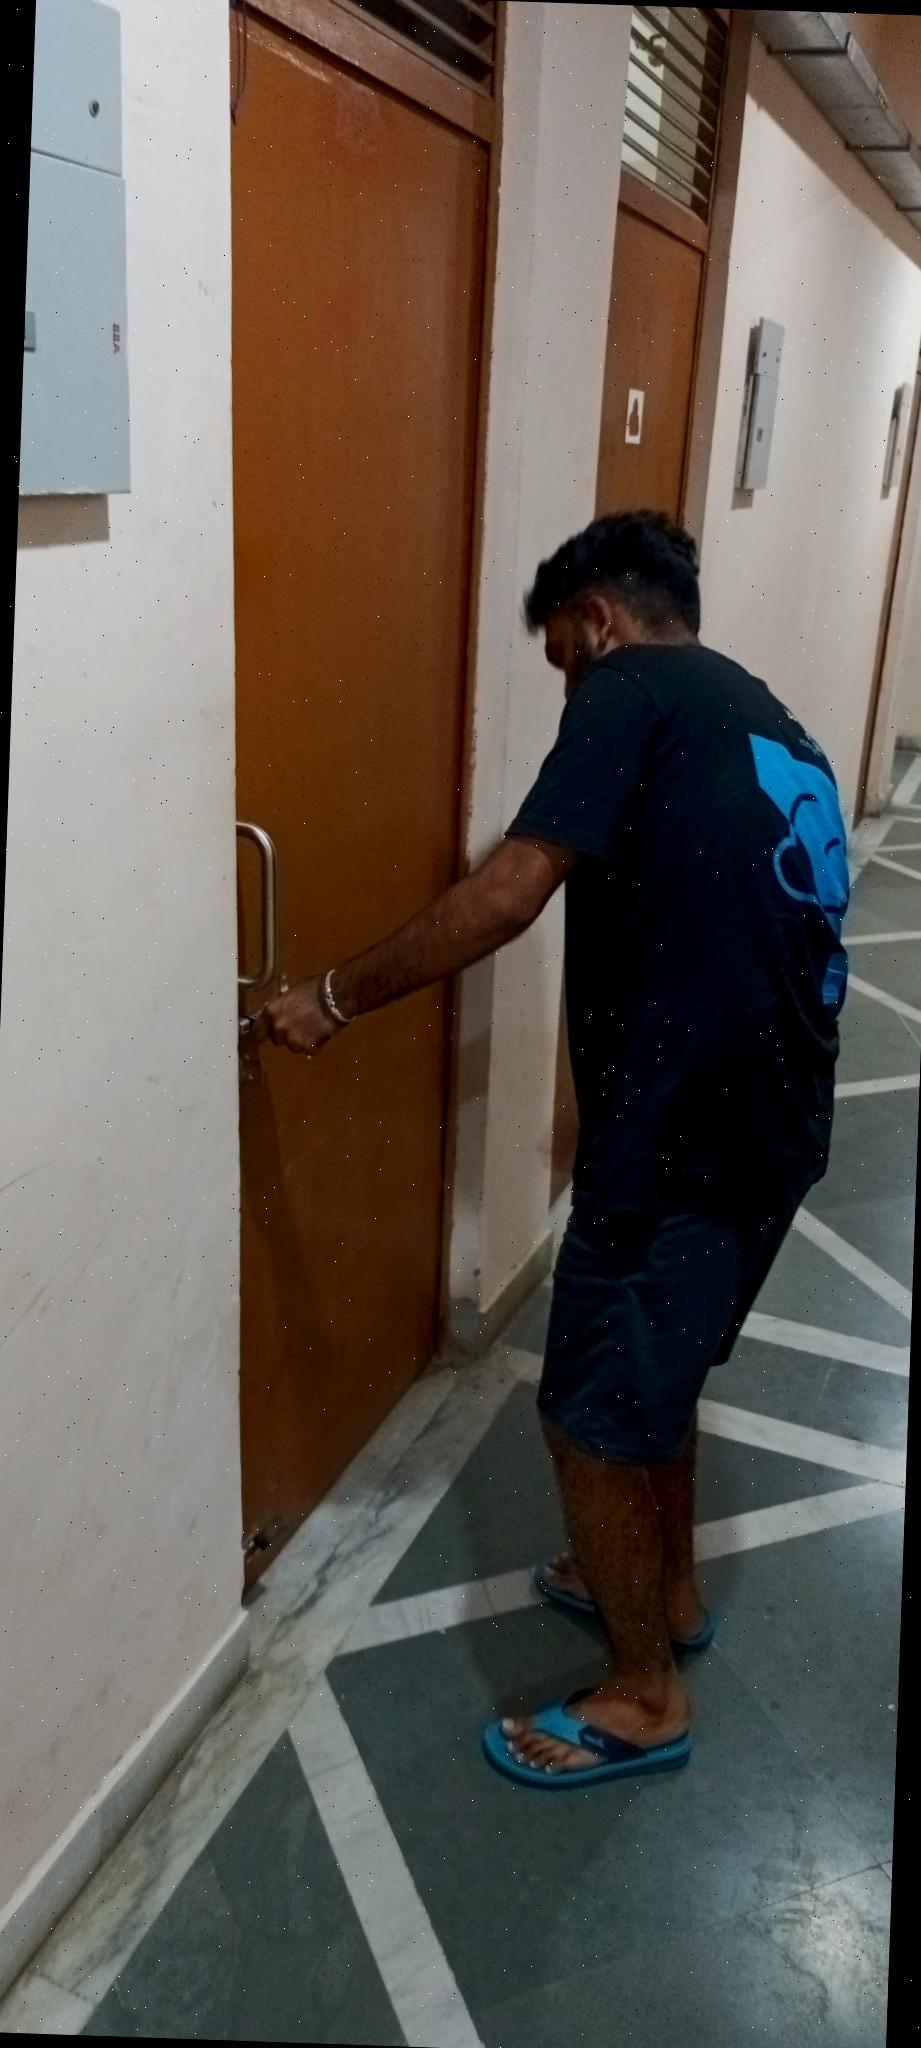suspicion: (179, 478, 909, 1835)
